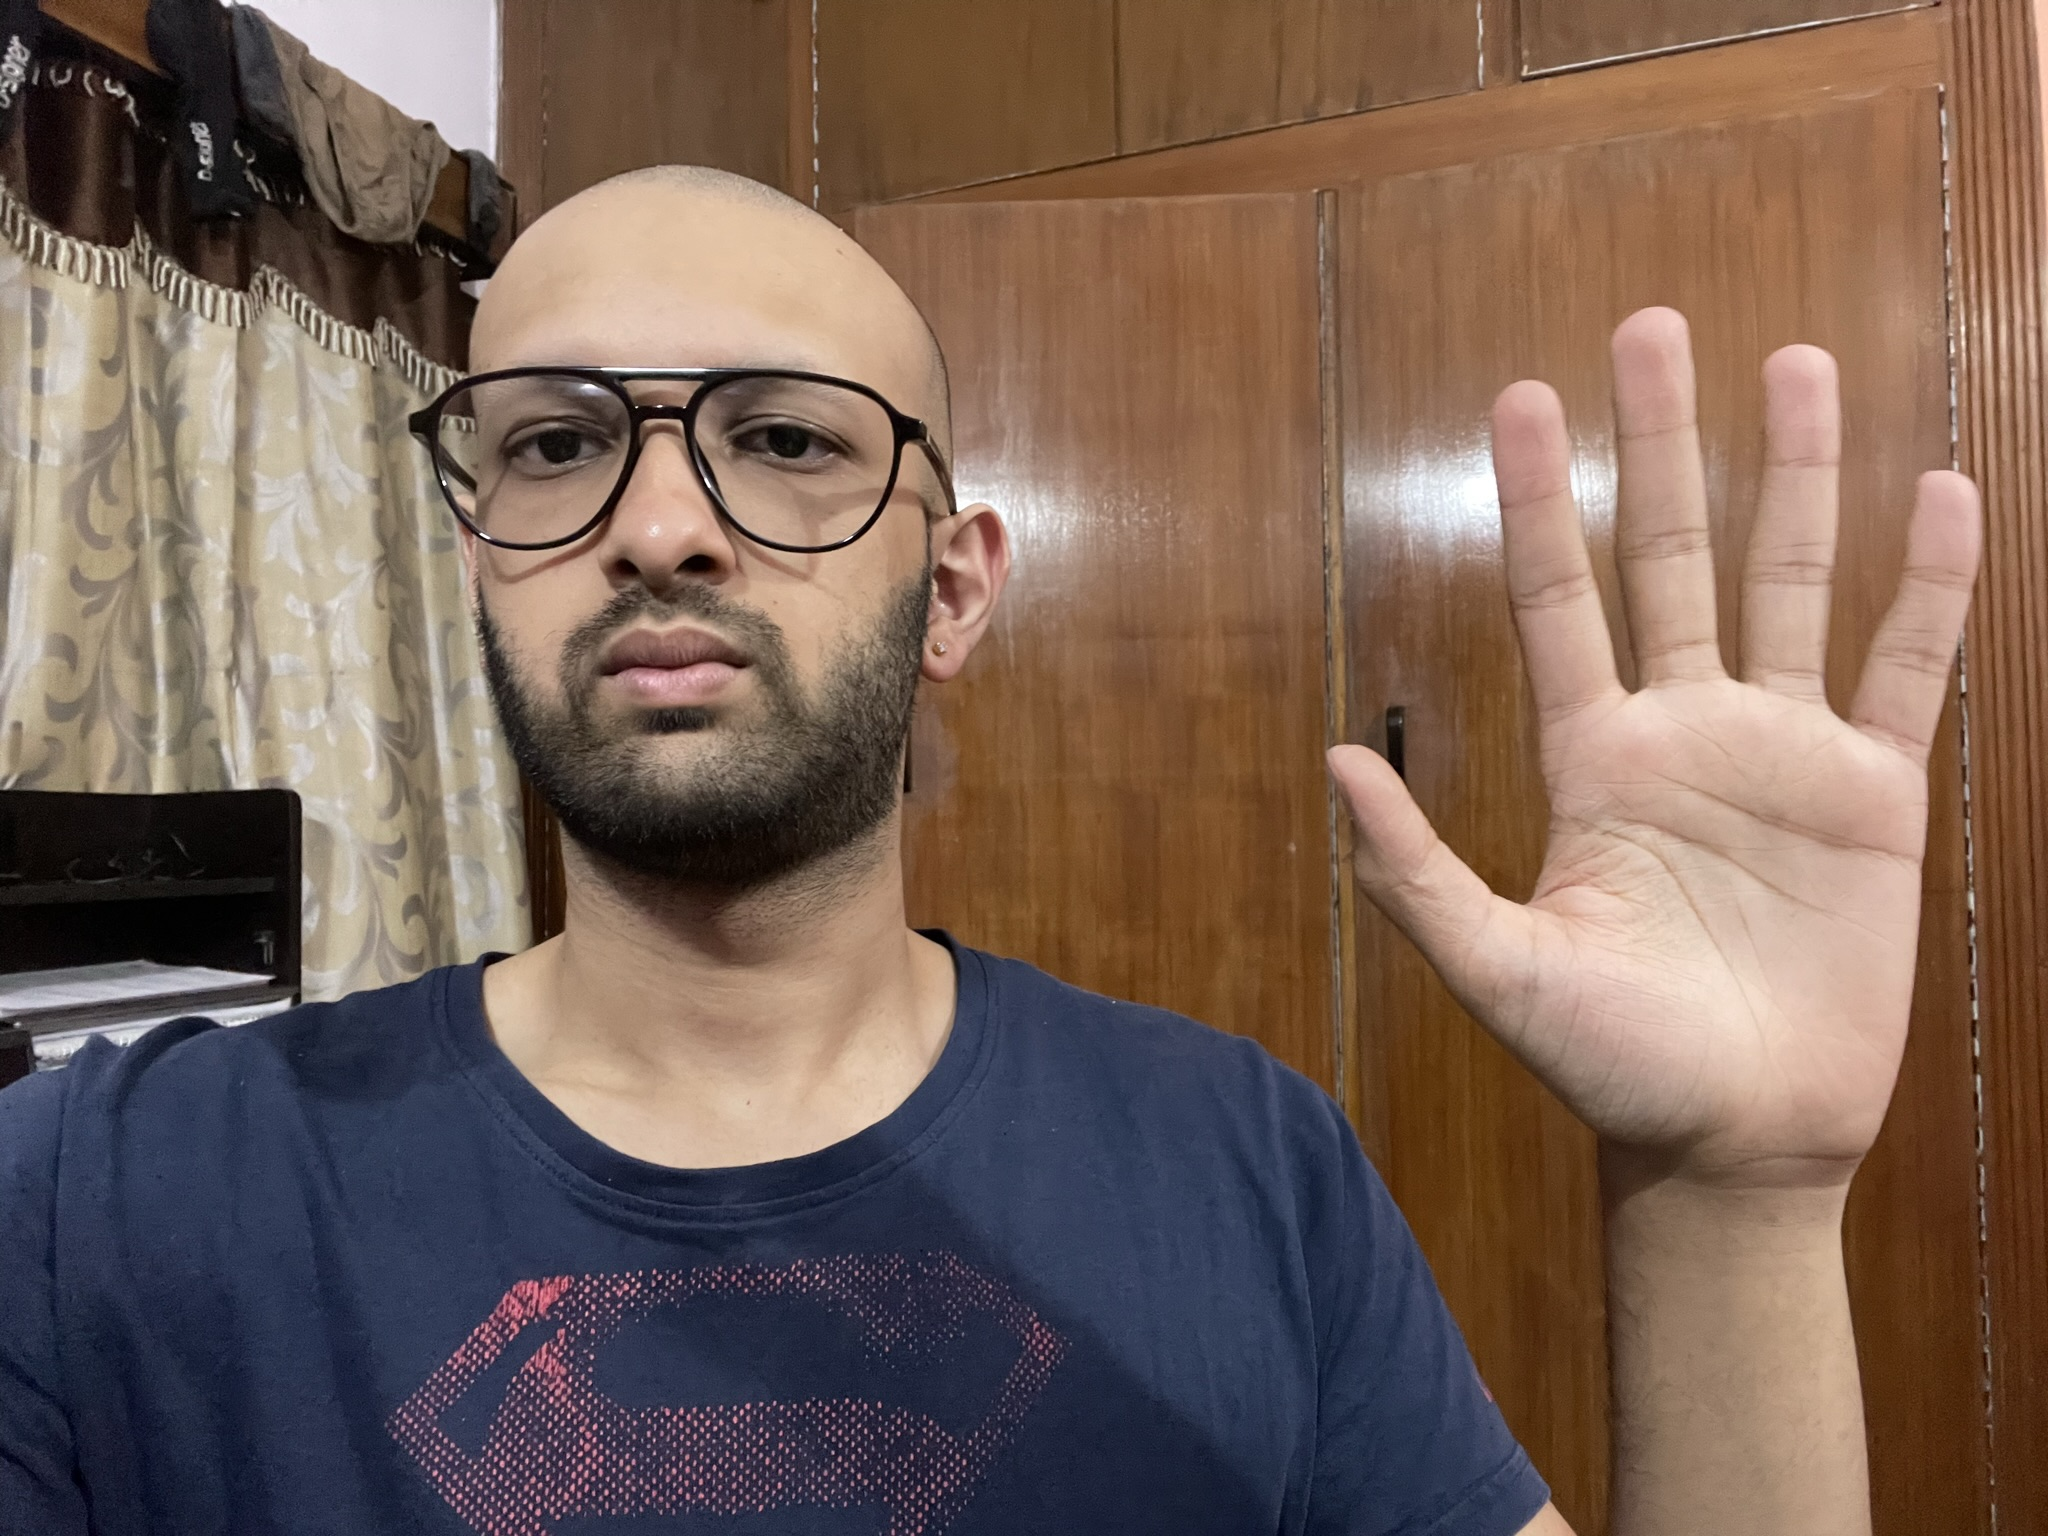Hello: (1313, 286, 1990, 1221)
